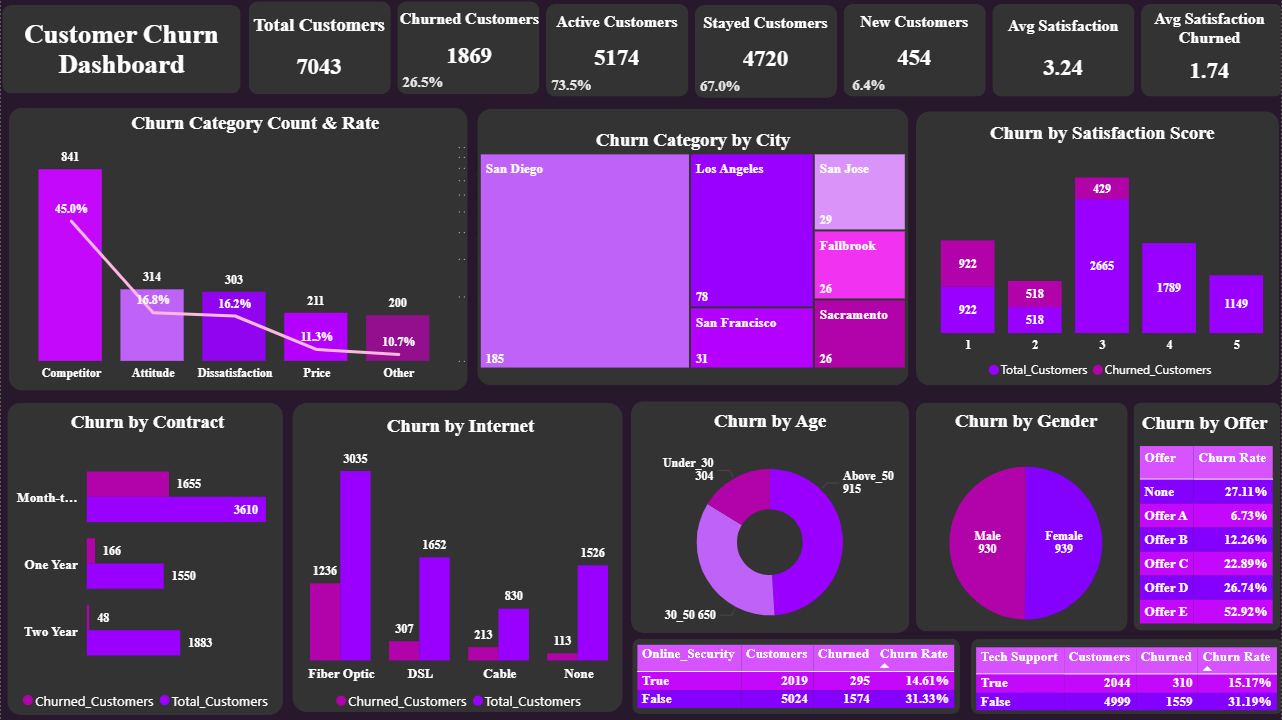

Layout of this report page (visuals, bound fields, positions):
{"tool":"powerbi","page":{"name":"Page 1","canvas":[1280,720],"ordinal":0},"visuals":[{"type":"shape","box":[1.5,5.6,238.6,88.6],"z":0},{"type":"group","id":"g1","title":"Group 1","box":[213.7,0.9,208.8,101.2],"z":1000},{"type":"shape","box":[247.6,0.9,142.4,92.9],"z":1000,"group":"g1"},{"type":"shape","box":[397.1,1.6,142.4,92.9],"z":1000,"group":"g2"},{"type":"shape","box":[842.7,3.7,142.4,92.9],"z":1000,"group":"g5"},{"type":"shape","box":[545.7,3.9,142.4,92.9],"z":1000,"group":"g3"},{"type":"shape","box":[1139.5,4,142.4,92.9],"z":1000,"group":"g7"},{"type":"shape","box":[990.7,4.2,142.4,92.9],"z":1000,"group":"g6"},{"type":"shape","box":[694.1,4.5,142.4,92.9],"z":1000,"group":"g4"},{"type":"group","id":"g2","title":"Group 1","box":[352.8,1.6,223.9,126],"z":2000},{"type":"card","title":"Avg Satisfaction Churned","fields":{"Values":["status.Avg_Satisfaction_Churned"]},"box":[1139.5,10,137,92],"z":2000,"group":"g7"},{"type":"card","title":"Churned Customers","fields":{"Values":["status.Churned_Customers"]},"box":[360.1,10.5,216.7,77.8],"z":2000,"group":"g2"},{"type":"card","title":"New Customers","fields":{"Values":["status.New_Customers"]},"box":[805.2,12.6,216.7,77.8],"z":2000,"group":"g5"},{"type":"card","title":"Total Customers","fields":{"Values":["status.Total_Customers"]},"box":[213.7,12.8,208.8,89.4],"z":2000,"group":"g1"},{"type":"card","title":"Active Customers","fields":{"Values":["status.Active_Customers"]},"box":[507.6,12.8,216.7,77.8],"z":2000,"group":"g3"},{"type":"card","title":"Stayed Customers","fields":{"Values":["status.Stayed_Customers"]},"box":[656,13.4,216.7,77.8],"z":2000,"group":"g4"},{"type":"card","title":"Avg Satisfaction","fields":{"Values":["status.Avg_Satisfaction_Score"]},"box":[953.5,17.2,217,90],"z":2000,"group":"g6"},{"type":"card","title":"Churn rate","fields":{"Values":["status.Churn_Rate"]},"box":[352.8,42,138.9,85.6],"z":2500,"group":"g2"},{"type":"card","title":"Churn rate","fields":{"Values":["status.New_Rate"]},"box":[759.6,43.7,216,86],"z":2500,"group":"g5"},{"type":"card","title":"Churn rate","fields":{"Values":["status.Active_Rate"]},"box":[462.6,43.9,216,86],"z":2500,"group":"g3"},{"type":"card","title":"Churn rate","fields":{"Values":["status.Stay_Rate"]},"box":[611,44.5,216,86],"z":2500,"group":"g4"},{"type":"group","id":"g3","title":"Group 1","box":[462.6,3.9,261.7,126],"z":3000},{"type":"group","id":"g4","title":"Group 1","box":[611,4.5,261.7,126],"z":4000},{"type":"group","id":"g5","title":"Group 1","box":[759.6,3.7,262.2,126],"z":5000},{"type":"group","id":"g6","title":"Group 1","box":[953.5,4.2,217,103],"z":6000},{"type":"group","id":"g7","title":"Group 1","box":[1139.5,4,142.4,98],"z":7000},{"type":"group","id":"g8","title":"Group 2","box":[883,402,285,253],"z":8000},{"type":"shape","box":[7.8,107.5,459.3,283.2],"z":8001,"group":"g14"},{"type":"shape","box":[476.3,109.3,431.3,276.7],"z":8001,"group":"g15"},{"type":"shape","box":[915.4,110.8,362.9,274.1],"z":8001,"group":"g13"},{"type":"shape","box":[630,401,278.3,231.7],"z":8001,"group":"g10"},{"type":"shape","box":[291.2,402,330.6,309.9],"z":8001,"group":"g11"},{"type":"shape","box":[915.4,402,211.7,229.2],"z":8001,"group":"g8"},{"type":"shape","box":[6.8,403,275.8,312.5],"z":8001,"group":"g12"},{"type":"shape","box":[969.4,638.6,312.4,75.3],"z":8001,"group":"g9"},{"type":"lineStackedColumnComboChart","title":"Churn Category","fields":{"Category":["status.Churn_Category"],"Y":["status.Churned_Customers"],"Y2":["status.Churn_Category_Rate"]},"box":[0,112,508.5,275.5],"z":8501,"group":"g14"},{"type":"columnChart","title":"Churn by Satisfaction Score","fields":{"Category":["status.Satisfaction_Score"],"Y":["status.Total_Customers","status.Churned_Customers"]},"box":[935.5,121.7,332.3,265.8],"z":8501,"group":"g13"},{"type":"treemap","title":"Churn Category","fields":{"Group":["location.City","status.Churn_Category"],"Values":["status.Churned_Customers"]},"box":[474.8,129.8,434,244],"z":8501,"group":"g15"},{"type":"pieChart","title":"Churn by Gender","fields":{"Category":["demographics.Gender"],"Y":["status.Churned_Customers"]},"box":[883,409.5,285,245.8],"z":8501,"group":"g8"},{"type":"donutChart","title":"Churn by Age","fields":{"Category":["demographics.Age_Group"],"Y":["status.Churned_Customers"]},"box":[639.9,409.9,258,244],"z":8501,"group":"g10"},{"type":"clusteredBarChart","title":"Churn by Contract","fields":{"Category":["services.Contract"],"Y":["status.Churned_Customers","status.Total_Customers"]},"box":[0,411.7,293,308.3],"z":8501,"group":"g12"},{"type":"clusteredColumnChart","title":"Churn by Internet","fields":{"Category":["services.Internet_Type"],"Y":["status.Churned_Customers","status.Total_Customers"]},"box":[272,415,374,305],"z":8501,"group":"g11"},{"type":"tableEx","title":"Churn by Tech Support","fields":{"Values":["services.Premium_Tech_Support","status.Total_Customers","status.Churned_Customers","status.Churn_Rate"]},"box":[968.4,641.8,312.4,74.1],"z":8501,"group":"g9"},{"type":"shape","box":[1133,403,147,228],"z":9000},{"type":"shape","box":[631.8,639,327.6,75.3],"z":9000,"group":"g16"},{"type":"group","id":"g9","title":"Group 2","box":[968.4,638.6,313.3,77.3],"z":10000},{"type":"group","id":"g10","title":"Group 2","box":[630,401,278,253],"z":11000},{"type":"tableEx","title":"Churn by Tech Support","fields":{"Values":["services.Online_Security","status.Total_Customers","status.Churned_Customers","status.Churn_Rate"]},"box":[630,640.8,329.4,73.5],"z":11000,"group":"g16"},{"type":"group","id":"g11","title":"Group 2","box":[272,402,374,318],"z":12000},{"type":"group","id":"g12","title":"Group 2","box":[0,403,293,317],"z":13000},{"type":"group","id":"g13","title":"Group 2","box":[915.4,110.8,364.4,276.7],"z":14000},{"type":"group","id":"g14","title":"Group 2","box":[0,107.5,508.8,283.8],"z":15000},{"type":"group","id":"g15","title":"Group 2","box":[474.8,109.3,434,276.7],"z":16000},{"type":"tableEx","title":"Churn by Tech Support","fields":{"Values":["services.Offer","status.Churn_Rate"]},"box":[1133,441,147,190],"z":17000},{"type":"group","id":"g16","title":"Group 3","box":[630,639,329.4,75.3],"z":18000},{"type":"textbox","box":[1128,407,152,34],"z":19000}]}

Visuals, with their boxes in screenshot pixels (x1, y1, x2, y2), scaled from the page's 1280x720 canvas onto the 1282x720 screenshot:
shape: [2, 6, 240, 94]
"Group 1" group: [214, 1, 423, 102]
shape: [248, 1, 391, 94]
shape: [398, 2, 540, 94]
shape: [844, 4, 987, 97]
shape: [547, 4, 689, 97]
shape: [1141, 4, 1281, 97]
shape: [992, 4, 1135, 97]
shape: [695, 4, 838, 97]
"Group 1" group: [353, 2, 578, 128]
"Avg Satisfaction Churned" card: [1141, 10, 1278, 102]
"Churned Customers" card: [361, 10, 578, 88]
"New Customers" card: [806, 13, 1023, 90]
"Total Customers" card: [214, 13, 423, 102]
"Active Customers" card: [508, 13, 725, 91]
"Stayed Customers" card: [657, 13, 874, 91]
"Avg Satisfaction" card: [955, 17, 1172, 107]
"Churn rate" card: [353, 42, 492, 128]
"Churn rate" card: [761, 44, 977, 130]
"Churn rate" card: [463, 44, 680, 130]
"Churn rate" card: [612, 44, 828, 130]
"Group 1" group: [463, 4, 725, 130]
"Group 1" group: [612, 4, 874, 130]
"Group 1" group: [761, 4, 1023, 130]
"Group 1" group: [955, 4, 1172, 107]
"Group 1" group: [1141, 4, 1281, 102]
"Group 2" group: [884, 402, 1170, 655]
shape: [8, 108, 468, 391]
shape: [477, 109, 909, 386]
shape: [917, 111, 1280, 385]
shape: [631, 401, 910, 633]
shape: [292, 402, 623, 712]
shape: [917, 402, 1129, 631]
shape: [7, 403, 283, 716]
shape: [971, 639, 1281, 714]
"Churn Category" lineStackedColumnComboChart: [0, 112, 509, 388]
"Churn by Satisfaction Score" columnChart: [937, 122, 1270, 388]
"Churn Category" treemap: [476, 130, 910, 374]
"Churn by Gender" pieChart: [884, 410, 1170, 655]
"Churn by Age" donutChart: [641, 410, 899, 654]
"Churn by Contract" clusteredBarChart: [0, 412, 293, 719]
"Churn by Internet" clusteredColumnChart: [272, 415, 647, 719]
"Churn by Tech Support" tableEx: [970, 642, 1281, 716]
shape: [1135, 403, 1281, 631]
shape: [633, 639, 961, 714]
"Group 2" group: [970, 639, 1281, 716]
"Group 2" group: [631, 401, 909, 654]
"Churn by Tech Support" tableEx: [631, 641, 961, 714]
"Group 2" group: [272, 402, 647, 719]
"Group 2" group: [0, 403, 293, 719]
"Group 2" group: [917, 111, 1281, 388]
"Group 2" group: [0, 108, 510, 391]
"Group 2" group: [476, 109, 910, 386]
"Churn by Tech Support" tableEx: [1135, 441, 1281, 631]
"Group 3" group: [631, 639, 961, 714]
textbox: [1130, 407, 1281, 441]
